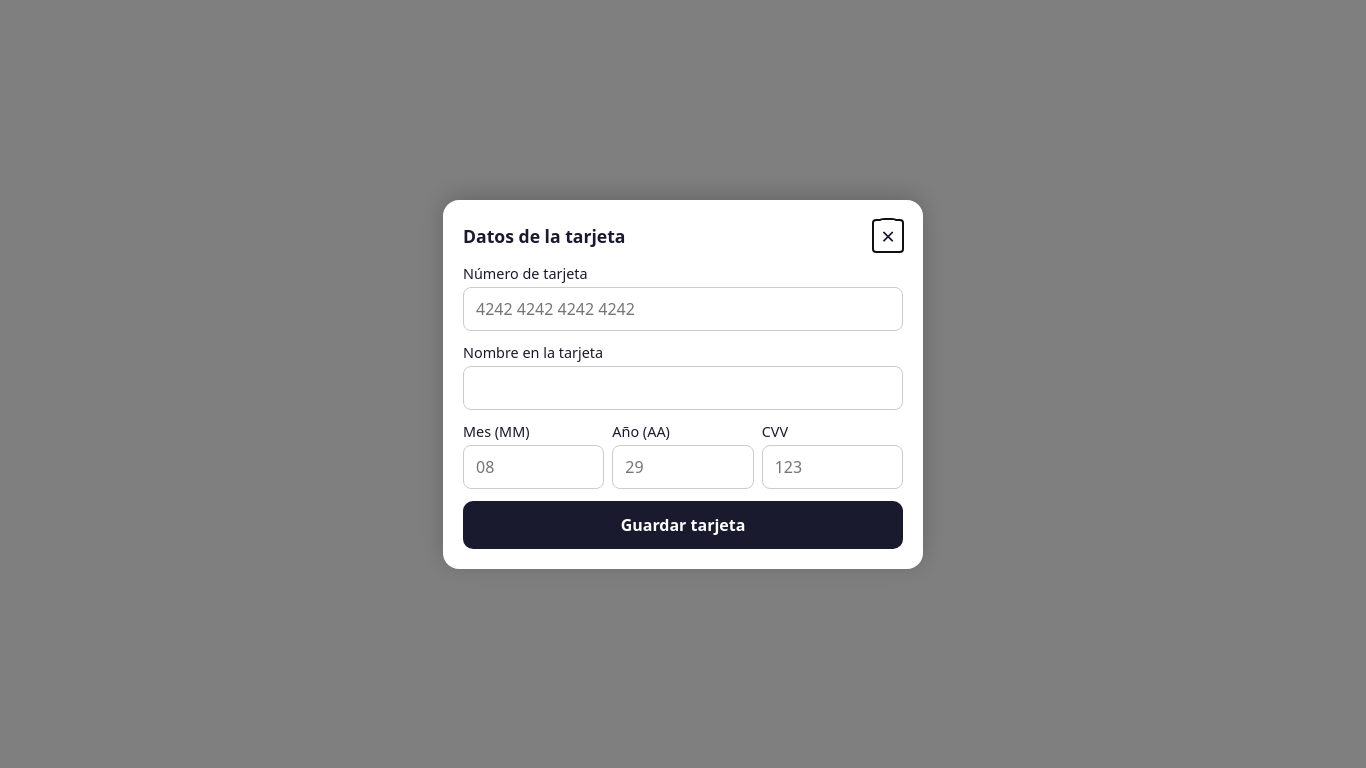
CardModal › shows the Visa logo as soon as the number matches its prefix
In the field with placeholder "4242 4242 4242 4242": [683, 308] box [463, 286, 903, 330], type "4242"
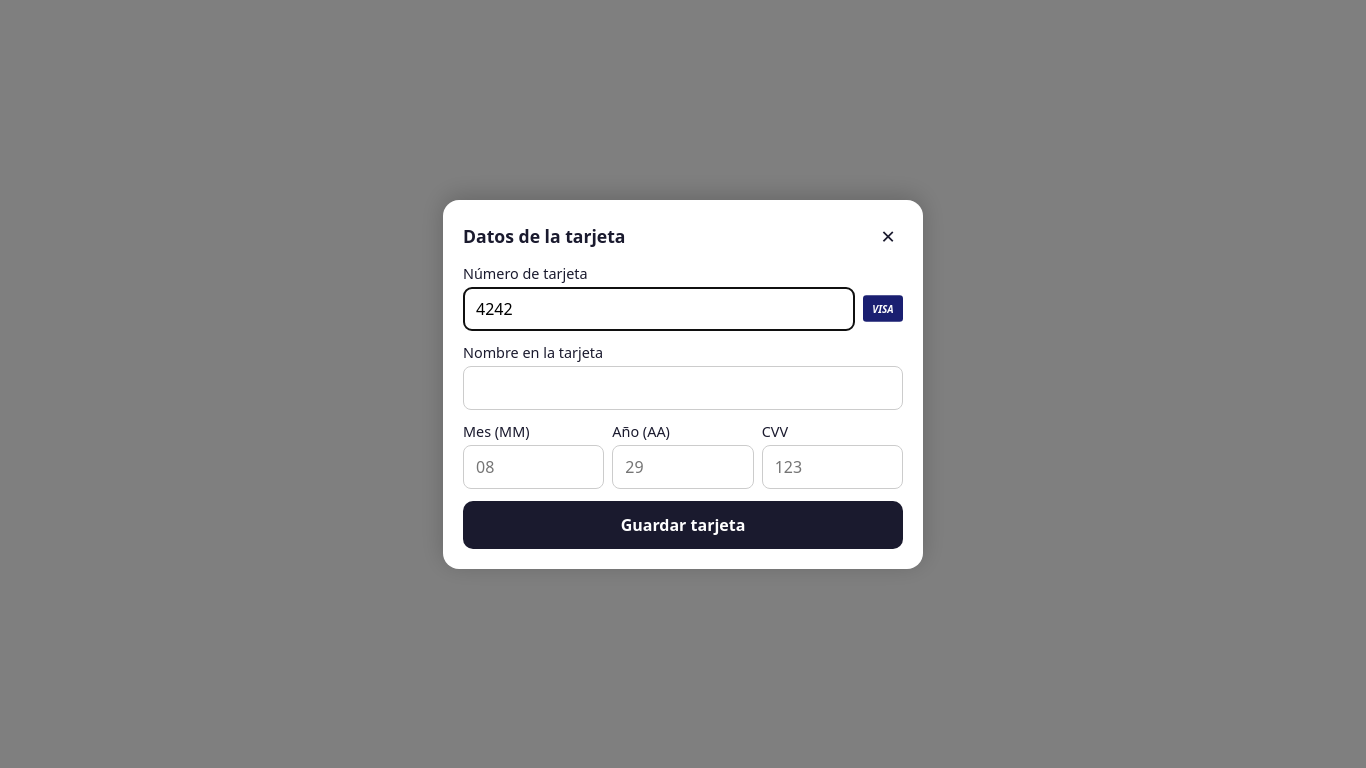
Expected: the picture "VISA" is shown, [863, 295, 903, 322]
